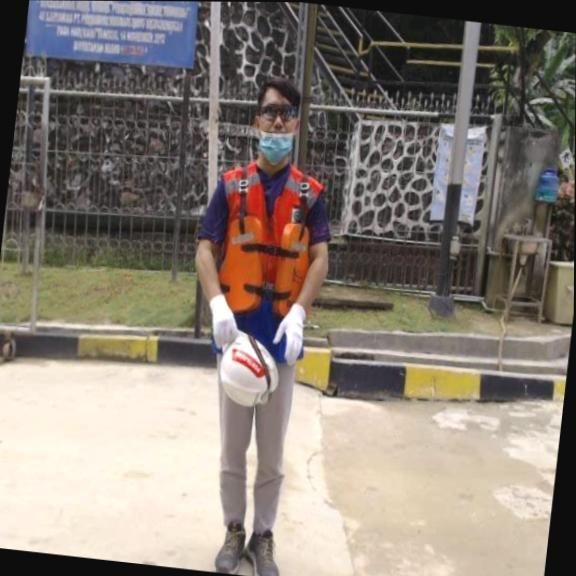safety_vest: (216, 217, 309, 320)
